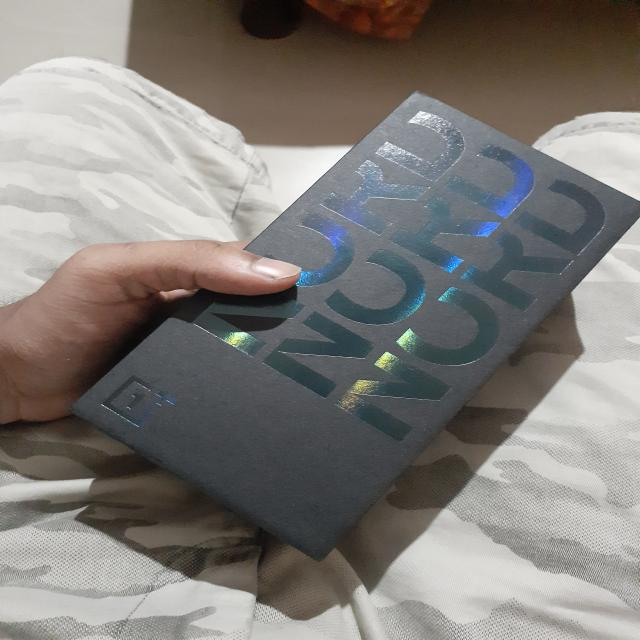paper: (81, 66, 640, 534)
